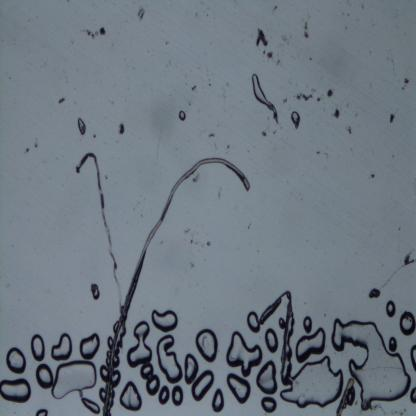Air bubble: (328, 316, 412, 412), (280, 355, 344, 409), (51, 354, 98, 405), (226, 328, 262, 380), (152, 332, 185, 382), (250, 71, 280, 124), (125, 320, 152, 366), (294, 328, 326, 364), (194, 327, 220, 364), (48, 330, 73, 364), (76, 326, 101, 360), (227, 371, 251, 406), (149, 307, 181, 333), (0, 377, 32, 402), (181, 349, 202, 386), (192, 371, 216, 399), (258, 360, 278, 393), (120, 379, 141, 410), (5, 347, 27, 376), (29, 332, 48, 363), (35, 362, 54, 390), (399, 311, 415, 338), (211, 387, 226, 413), (80, 397, 102, 414), (265, 327, 279, 353), (246, 312, 264, 332), (171, 382, 185, 407), (145, 374, 160, 396), (109, 366, 124, 387), (261, 395, 277, 414), (140, 361, 152, 382), (98, 361, 109, 382), (387, 298, 397, 320), (290, 109, 300, 130), (160, 386, 170, 405), (303, 315, 313, 334), (77, 118, 88, 135), (409, 345, 416, 370), (176, 110, 188, 122), (35, 406, 50, 414), (410, 386, 416, 406)
Background material: (258, 287, 295, 386), (76, 22, 107, 40), (397, 248, 416, 269), (255, 26, 271, 48), (294, 90, 314, 103), (88, 283, 102, 301), (367, 286, 383, 301), (136, 8, 148, 21), (344, 121, 354, 136), (187, 83, 200, 94), (402, 75, 410, 91), (325, 87, 335, 99), (56, 95, 66, 107), (333, 108, 341, 121), (265, 51, 275, 61), (303, 21, 308, 40), (192, 173, 202, 182), (388, 113, 396, 124), (22, 146, 31, 154), (261, 129, 268, 137), (119, 124, 124, 135), (34, 139, 40, 148), (282, 96, 288, 104), (317, 96, 324, 102), (368, 174, 376, 179), (206, 240, 211, 247), (208, 134, 215, 138)
Cellulose filter fibre: (74, 150, 126, 314)
Microfibre: (102, 154, 251, 416), (338, 377, 356, 416)
